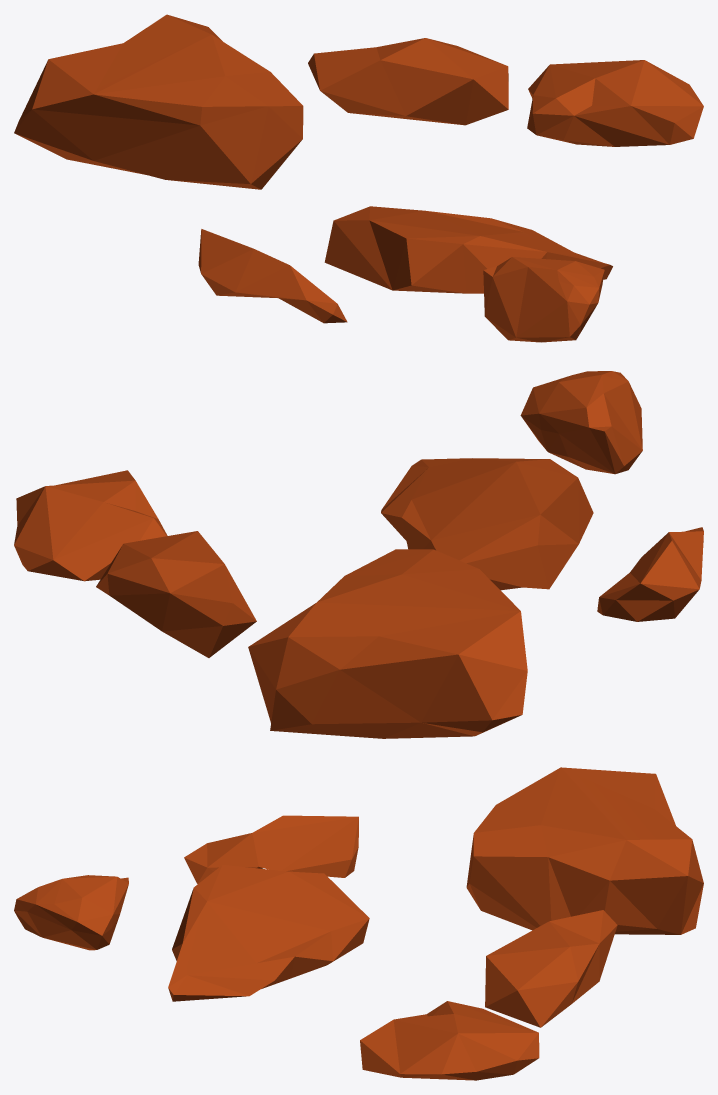
3 renders of one model, top to bottom at view 1: azimuth 30°, elevation 25°; view 2: azimuth 150°, elevation 25°; view 3: azimuth 270°, elevation 25°, orthographic. The views are drawn at different scales.
Visible parts, largest first — view 1: Stone_desert_small_013; view 2: Stone_desert_small_013; view 3: Stone_desert_small_013.
Boxes of the visible parts, x1=… form: Stone_desert_small_013: x1=14, y1=14, x2=703, y2=342; Stone_desert_small_013: x1=14, y1=371, x2=703, y2=738; Stone_desert_small_013: x1=14, y1=767, x2=703, y2=1080.
Size of the model in its own units: 154 by 27.75 by 174.
Materials: 1 (1 with a texture image).
